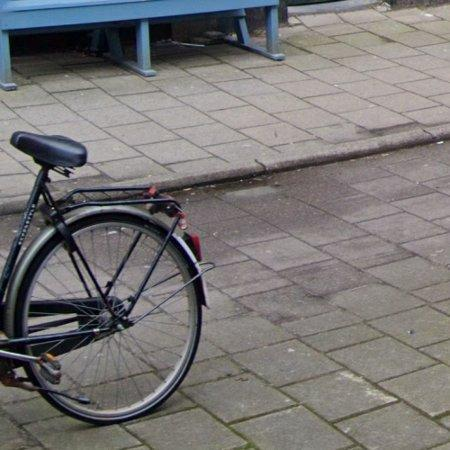bicycles: (0, 132, 206, 425)
